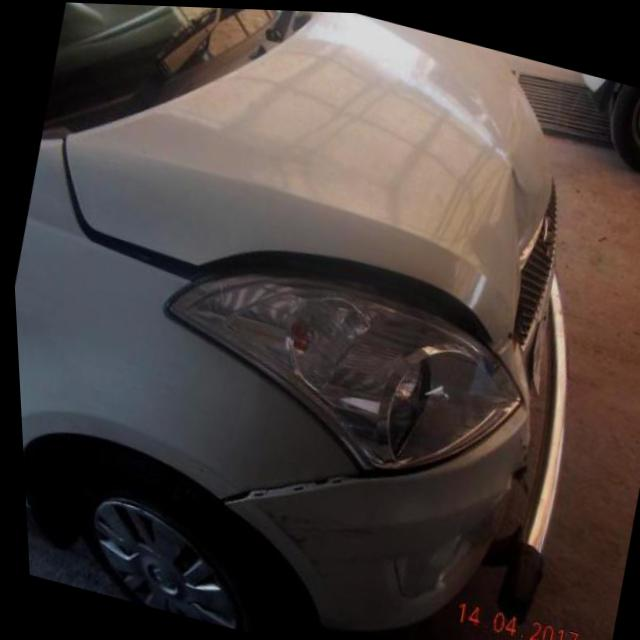Car-Damage: (42, 164, 509, 361), (212, 440, 362, 542), (250, 500, 374, 590), (489, 158, 558, 270), (494, 430, 531, 502)
